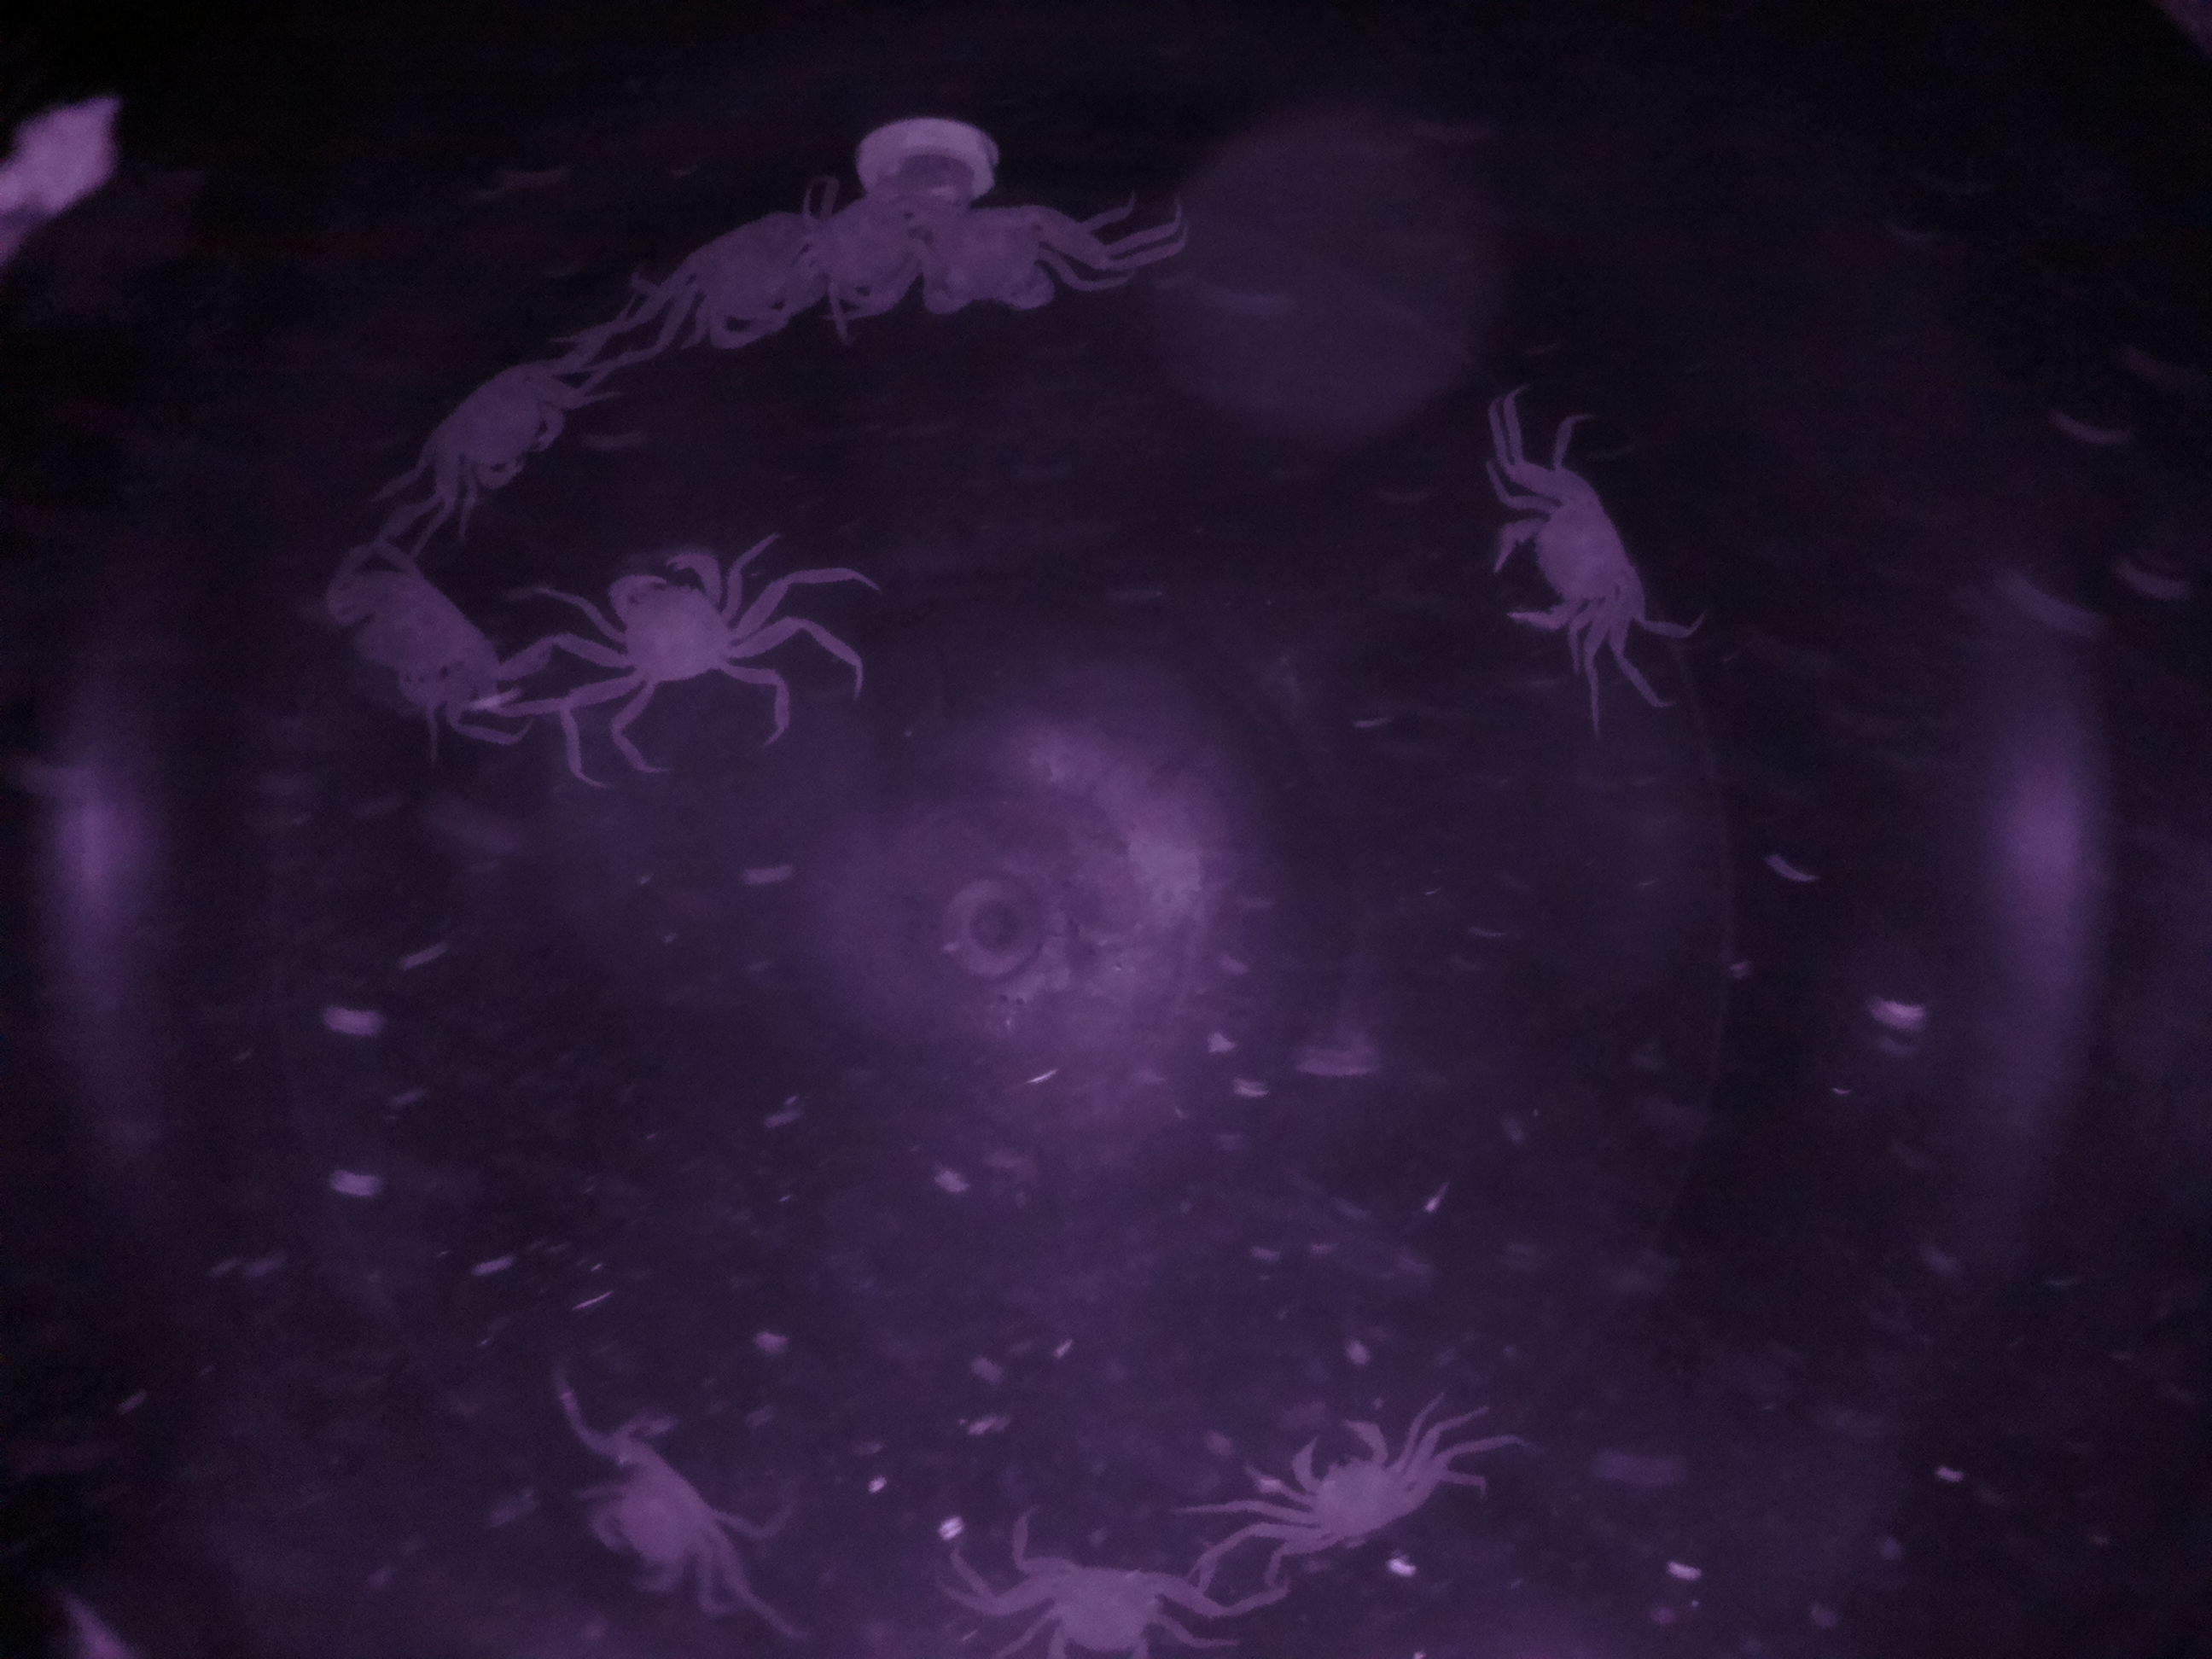Crab: (1247, 1396, 1442, 1582), (1479, 462, 1663, 650), (578, 538, 752, 695)
